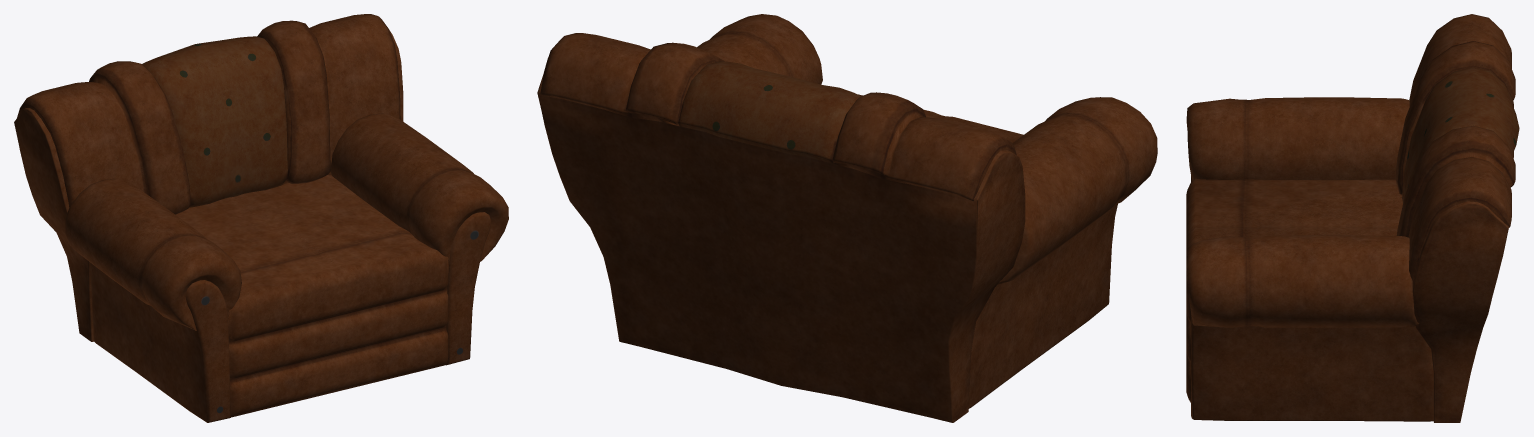
Rendered from SofaRetro02_Chair.FBX.
3 views of the same model, side by side, from view 1: azimuth 30°, elevation 25°; view 2: azimuth 150°, elevation 25°; view 3: azimuth 270°, elevation 25° (orthographic). The views are drawn at different scales.
Parts seen in each view (by area): view 1: SofaRetro02_2; view 2: SofaRetro02_2; view 3: SofaRetro02_2.
Boxes of the visible parts, x1=… form: SofaRetro02_2: x1=14, y1=14, x2=508, y2=422; SofaRetro02_2: x1=537, y1=14, x2=1157, y2=422; SofaRetro02_2: x1=1186, y1=14, x2=1519, y2=422.
Size of the model in its own units: 1617 by 1092 by 1244.
